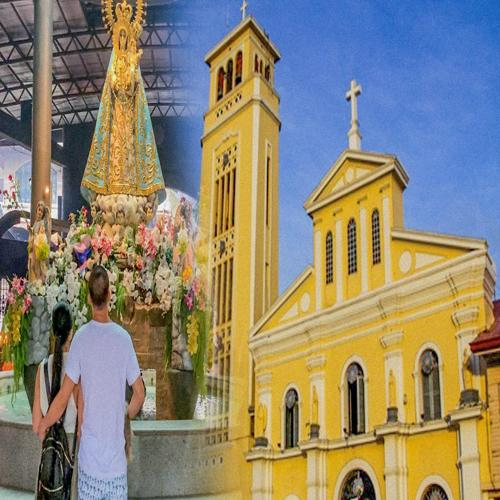Manaoag Church: (195, 4, 487, 500)
